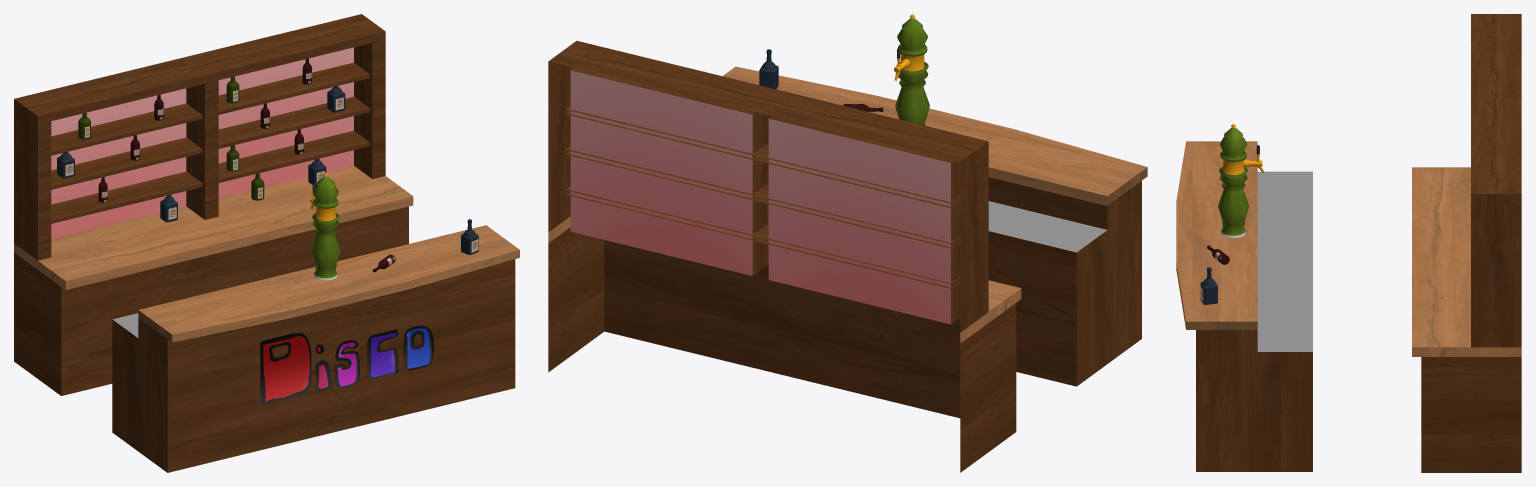
Rendered from bar.fbx.
The picture shows the model from 3 angles, left to right: view 1: azimuth 30°, elevation 25°; view 2: azimuth 150°, elevation 25°; view 3: azimuth 270°, elevation 25°; orthographic projection. The views are drawn at different scales.
Visible parts, largest first — view 1: pCylinder23; view 2: pCylinder23; view 3: pCylinder23.
Boxes of the visible parts, x1,y1,x2,y2 form: pCylinder23: (14,14,519,472); pCylinder23: (548,14,1147,472); pCylinder23: (1176,14,1521,472).
Bounding box in the file's own units: 300 × 217 × 243.
